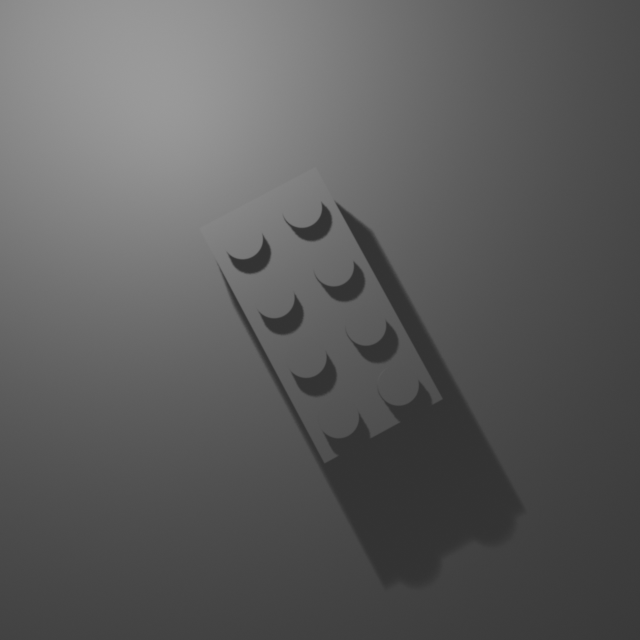lego_2x4: (197, 163, 445, 464)
